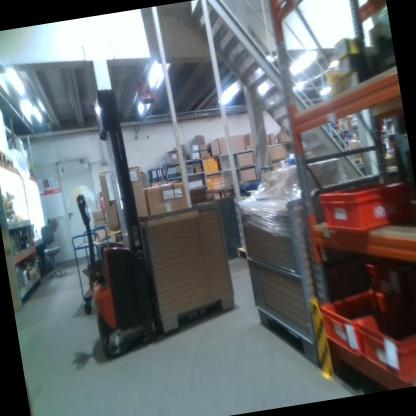pallet: (4, 153, 14, 168), (0, 145, 6, 163)
pallet_truck: (53, 69, 169, 364)
small_load_carrier: (316, 282, 398, 358), (318, 177, 415, 238), (354, 297, 416, 388)
stillage: (233, 189, 328, 379), (135, 195, 241, 339)
